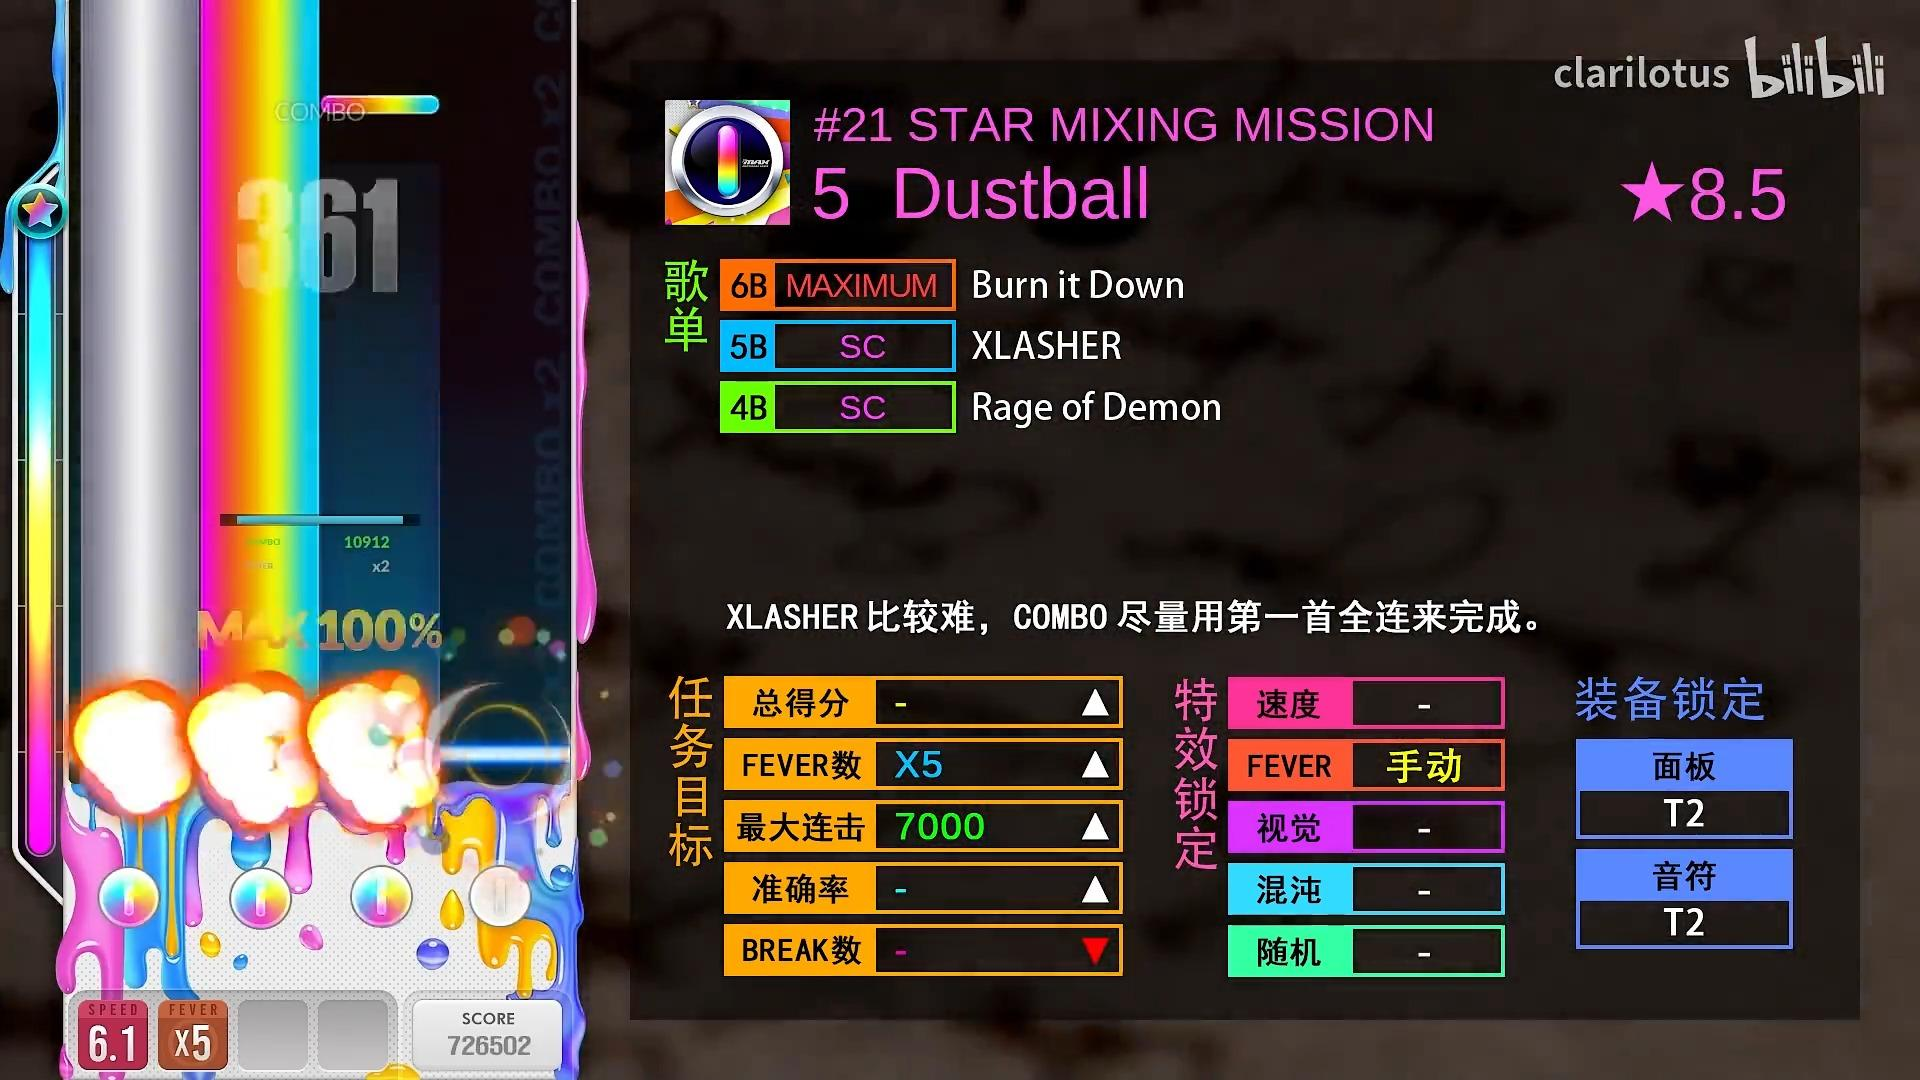note: (320, 95, 439, 115)
